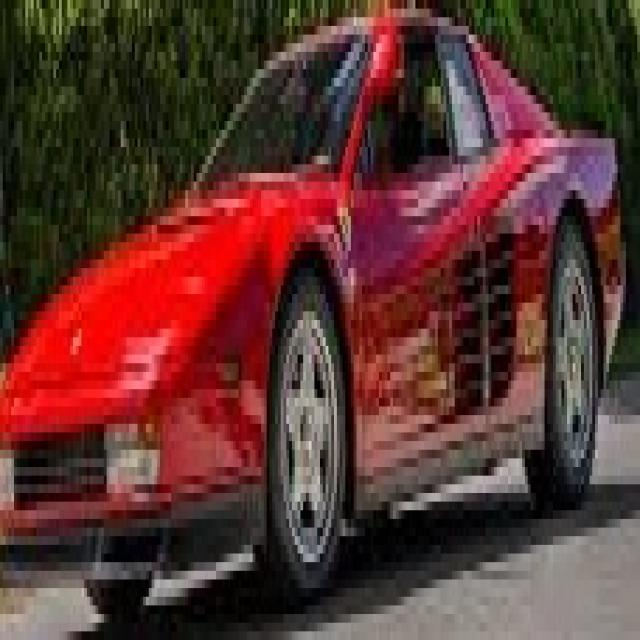red: (0, 1, 640, 539)
